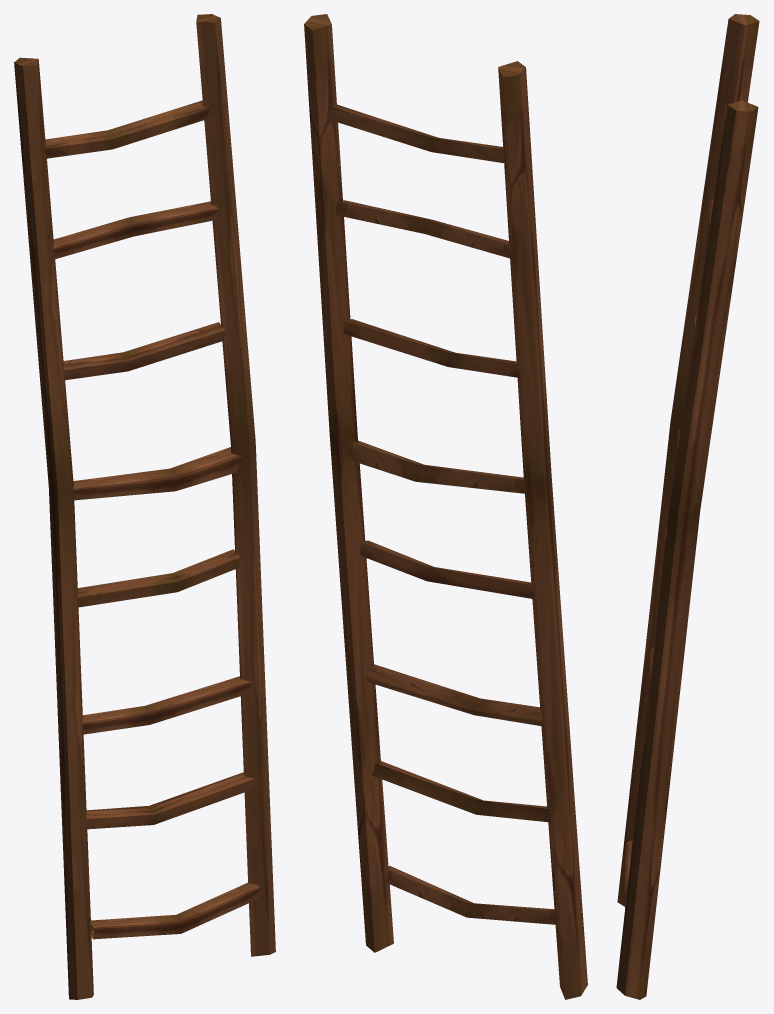
Rendered from cunlou_xiaowujian13.FBX.
3 renders of one model, left to right at view 1: azimuth 30°, elevation 25°; view 2: azimuth 150°, elevation 25°; view 3: azimuth 270°, elevation 25°, orthographic. The views are drawn at different scales.
Visible parts, largest first — view 1: cunlou_xiaowujian13; view 2: cunlou_xiaowujian13; view 3: cunlou_xiaowujian13.
Boxes of the visible parts, box(x1,y1,x2,y2) form: cunlou_xiaowujian13: box(14, 14, 275, 999); cunlou_xiaowujian13: box(304, 14, 587, 999); cunlou_xiaowujian13: box(616, 14, 759, 999).
Size of the model in its own units: 59.57 by 248 by 36.02.
